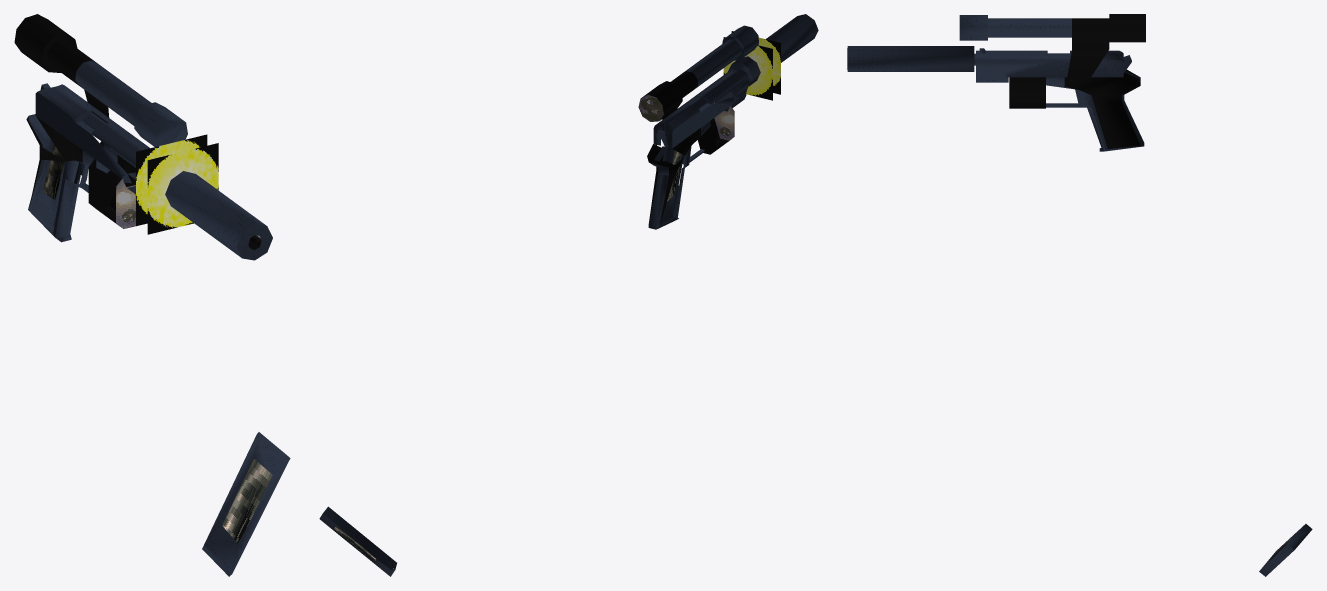
Rendered from Gun0002.obj.
The picture shows the model from 3 angles, left to right: view 1: azimuth 30°, elevation 25°; view 2: azimuth 150°, elevation 25°; view 3: azimuth 270°, elevation 25°; orthographic projection. The views are drawn at different scales.
Parts seen in each view (by area): view 1: Room03_primary, Room3B_primary, Room0F_primary, Room02_primary, Room06_primary, Room08_primary, Room0D_primary, Room0B_primary; view 2: Room03_primary, Room3B_primary, Room06_primary, Room02_primary, Room0F_primary, Room08_primary, Room0D_primary; view 3: Room03_primary, Room3B_primary, Room06_primary, Room0F_primary.
Part boxes in pixels (<box>): Room03_primary: <box>26,83,149,236</box>; Room3B_primary: <box>14,14,187,146</box>; Room0F_primary: <box>202,432,290,576</box>; Room02_primary: <box>136,134,218,234</box>; Room06_primary: <box>165,171,266,257</box>; Room08_primary: <box>28,165,135,242</box>; Room0D_primary: <box>33,139,78,226</box>; Room0B_primary: <box>236,223,272,260</box>; Room03_primary: <box>647,66,748,229</box>; Room3B_primary: <box>638,25,758,121</box>; Room06_primary: <box>728,14,818,86</box>; Room02_primary: <box>723,31,780,100</box>; Room0F_primary: <box>319,506,396,576</box>; Room08_primary: <box>656,69,747,229</box>; Room0D_primary: <box>660,147,683,224</box>; Room03_primary: <box>974,48,1144,150</box>; Room3B_primary: <box>959,14,1145,78</box>; Room06_primary: <box>847,46,974,71</box>; Room0F_primary: <box>1259,524,1312,576</box>.
Bounding box in the file's own units: 418 × 692 × 624.
199 materials, 199 textured.
